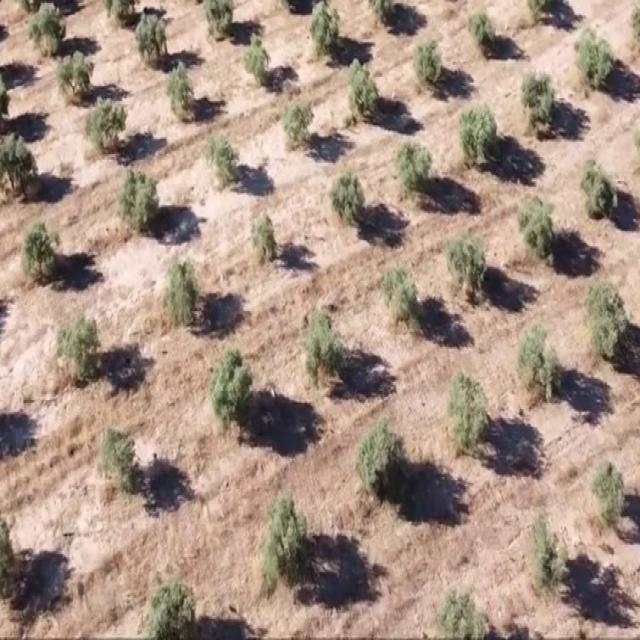trees: (578, 264, 637, 371), (263, 494, 316, 602), (516, 315, 567, 418), (351, 408, 408, 498), (440, 362, 492, 459), (205, 341, 257, 434), (162, 247, 207, 341), (570, 15, 620, 94), (114, 165, 164, 242), (518, 184, 566, 264), (456, 93, 505, 171), (518, 61, 565, 142), (442, 225, 490, 302), (52, 312, 102, 382), (148, 575, 201, 640), (80, 95, 132, 161), (431, 582, 492, 638), (276, 79, 319, 156), (16, 217, 64, 285), (394, 134, 438, 208), (99, 422, 141, 497), (575, 154, 620, 223), (376, 262, 419, 333), (53, 48, 101, 108), (306, 310, 344, 384), (344, 53, 384, 123), (0, 132, 40, 200), (25, 4, 70, 63), (329, 168, 371, 230), (203, 129, 243, 192), (133, 11, 173, 71), (166, 58, 202, 123), (409, 36, 448, 95), (306, 0, 344, 60), (467, 2, 504, 59), (198, 0, 243, 44), (240, 32, 274, 90), (250, 209, 282, 267), (0, 67, 16, 136)
